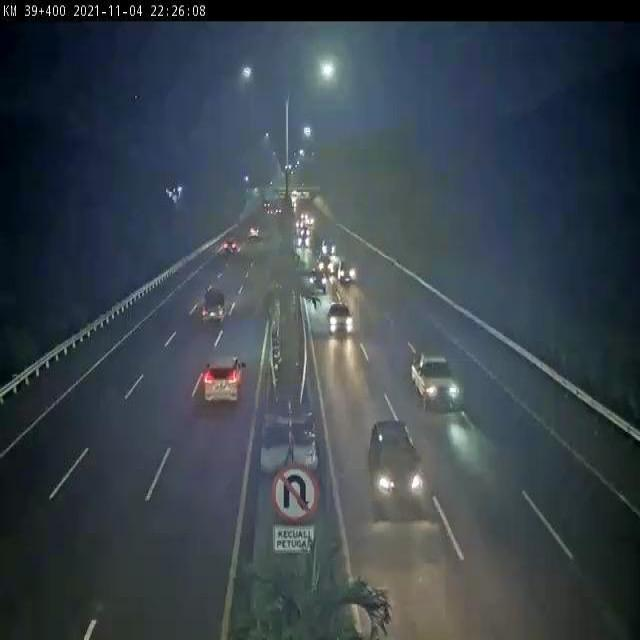car: (366, 414, 428, 518), (193, 352, 253, 407), (413, 347, 466, 405), (326, 307, 356, 348), (342, 260, 357, 289), (311, 269, 326, 295), (222, 240, 242, 256)
truck-s-: (199, 290, 232, 330)
